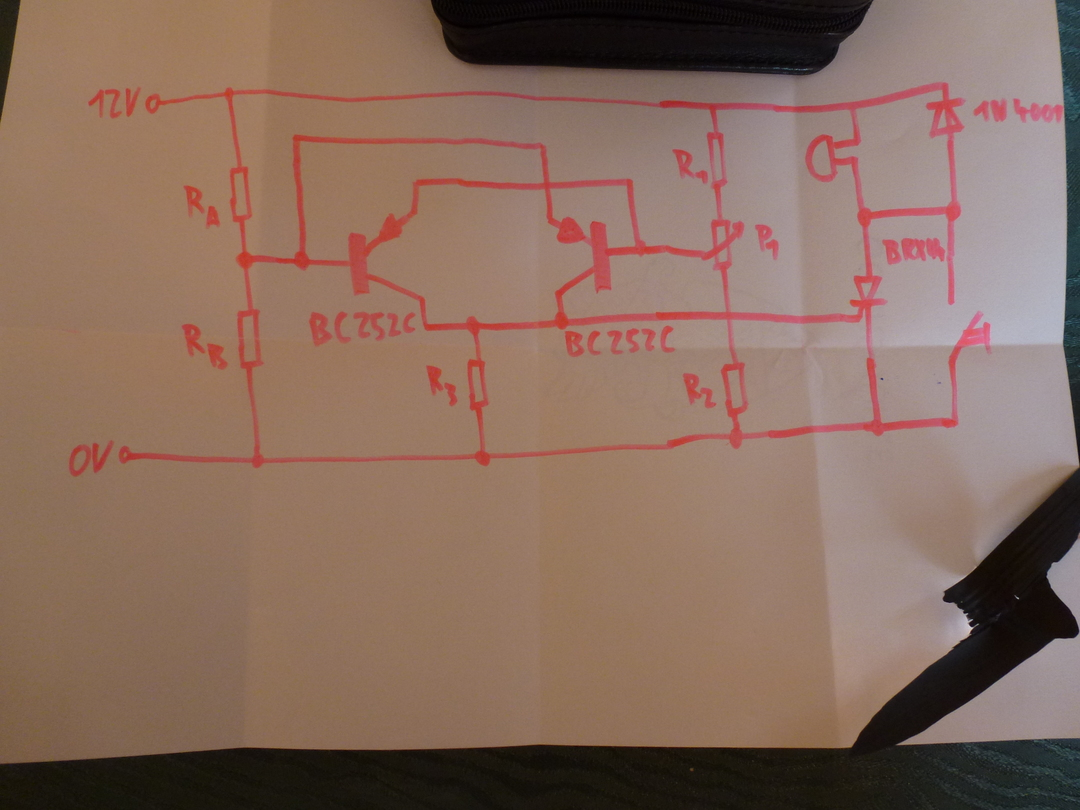crossover: (719, 307, 741, 327), (540, 178, 557, 194)
diode: (926, 97, 967, 138)
junction: (726, 427, 748, 450), (234, 249, 256, 271), (944, 198, 963, 223), (866, 417, 888, 438), (473, 448, 495, 469), (292, 250, 312, 272), (464, 314, 483, 337), (552, 309, 572, 330), (855, 206, 874, 228), (631, 239, 649, 259), (249, 452, 267, 470), (944, 412, 961, 431), (936, 78, 953, 95), (221, 85, 237, 102), (419, 319, 435, 335), (848, 152, 863, 168), (410, 174, 424, 191), (290, 131, 305, 146), (705, 99, 720, 114), (623, 175, 637, 190), (846, 99, 860, 114), (849, 133, 864, 147), (536, 140, 551, 153)
lamp: (803, 132, 840, 184)
resistor: (235, 306, 265, 370), (227, 163, 254, 224), (720, 359, 748, 416), (705, 129, 730, 190), (464, 357, 491, 411)
resistor.adjustable: (701, 217, 746, 270)
switch: (946, 302, 992, 362)
terminal: (143, 91, 164, 114), (117, 444, 136, 467)
text: (308, 310, 416, 346), (563, 325, 677, 358), (972, 96, 1064, 127), (181, 322, 228, 371), (880, 236, 946, 266), (87, 86, 142, 120), (183, 183, 222, 230), (66, 440, 113, 477), (424, 364, 460, 407), (671, 147, 710, 186), (681, 371, 718, 410), (753, 222, 781, 262)
thyristor: (848, 272, 890, 325)
transistor: (346, 209, 427, 303), (546, 215, 614, 297)
